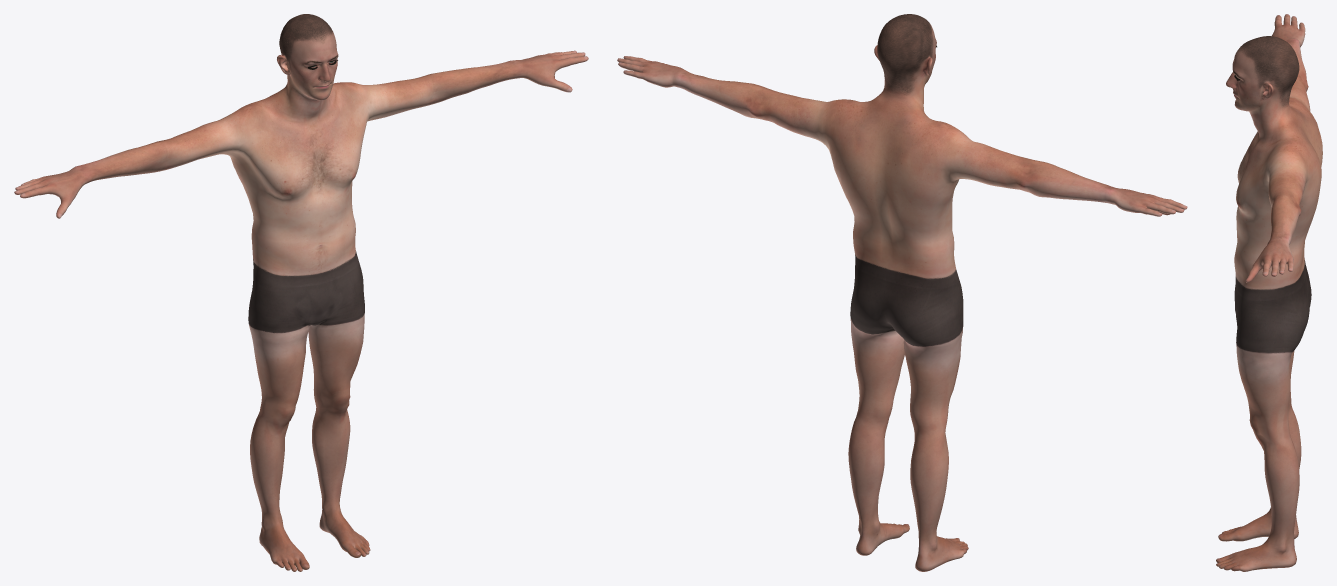
The model's file is MaleTwo.obj.
The picture shows the model from 3 angles, left to right: view 1: azimuth 30°, elevation 25°; view 2: azimuth 150°, elevation 25°; view 3: azimuth 270°, elevation 25°; orthographic projection. The views are drawn at different scales.
Parts seen in each view (by area): view 1: Body; view 2: Body; view 3: Body.
Part boxes in pixels (x1,y1,x2,y2): Body: [14, 14, 588, 571]; Body: [617, 14, 1187, 571]; Body: [1216, 14, 1322, 571].
Size of the model in its own units: 193 by 173 by 32.64.
Materials: 1 (1 with a texture image).
